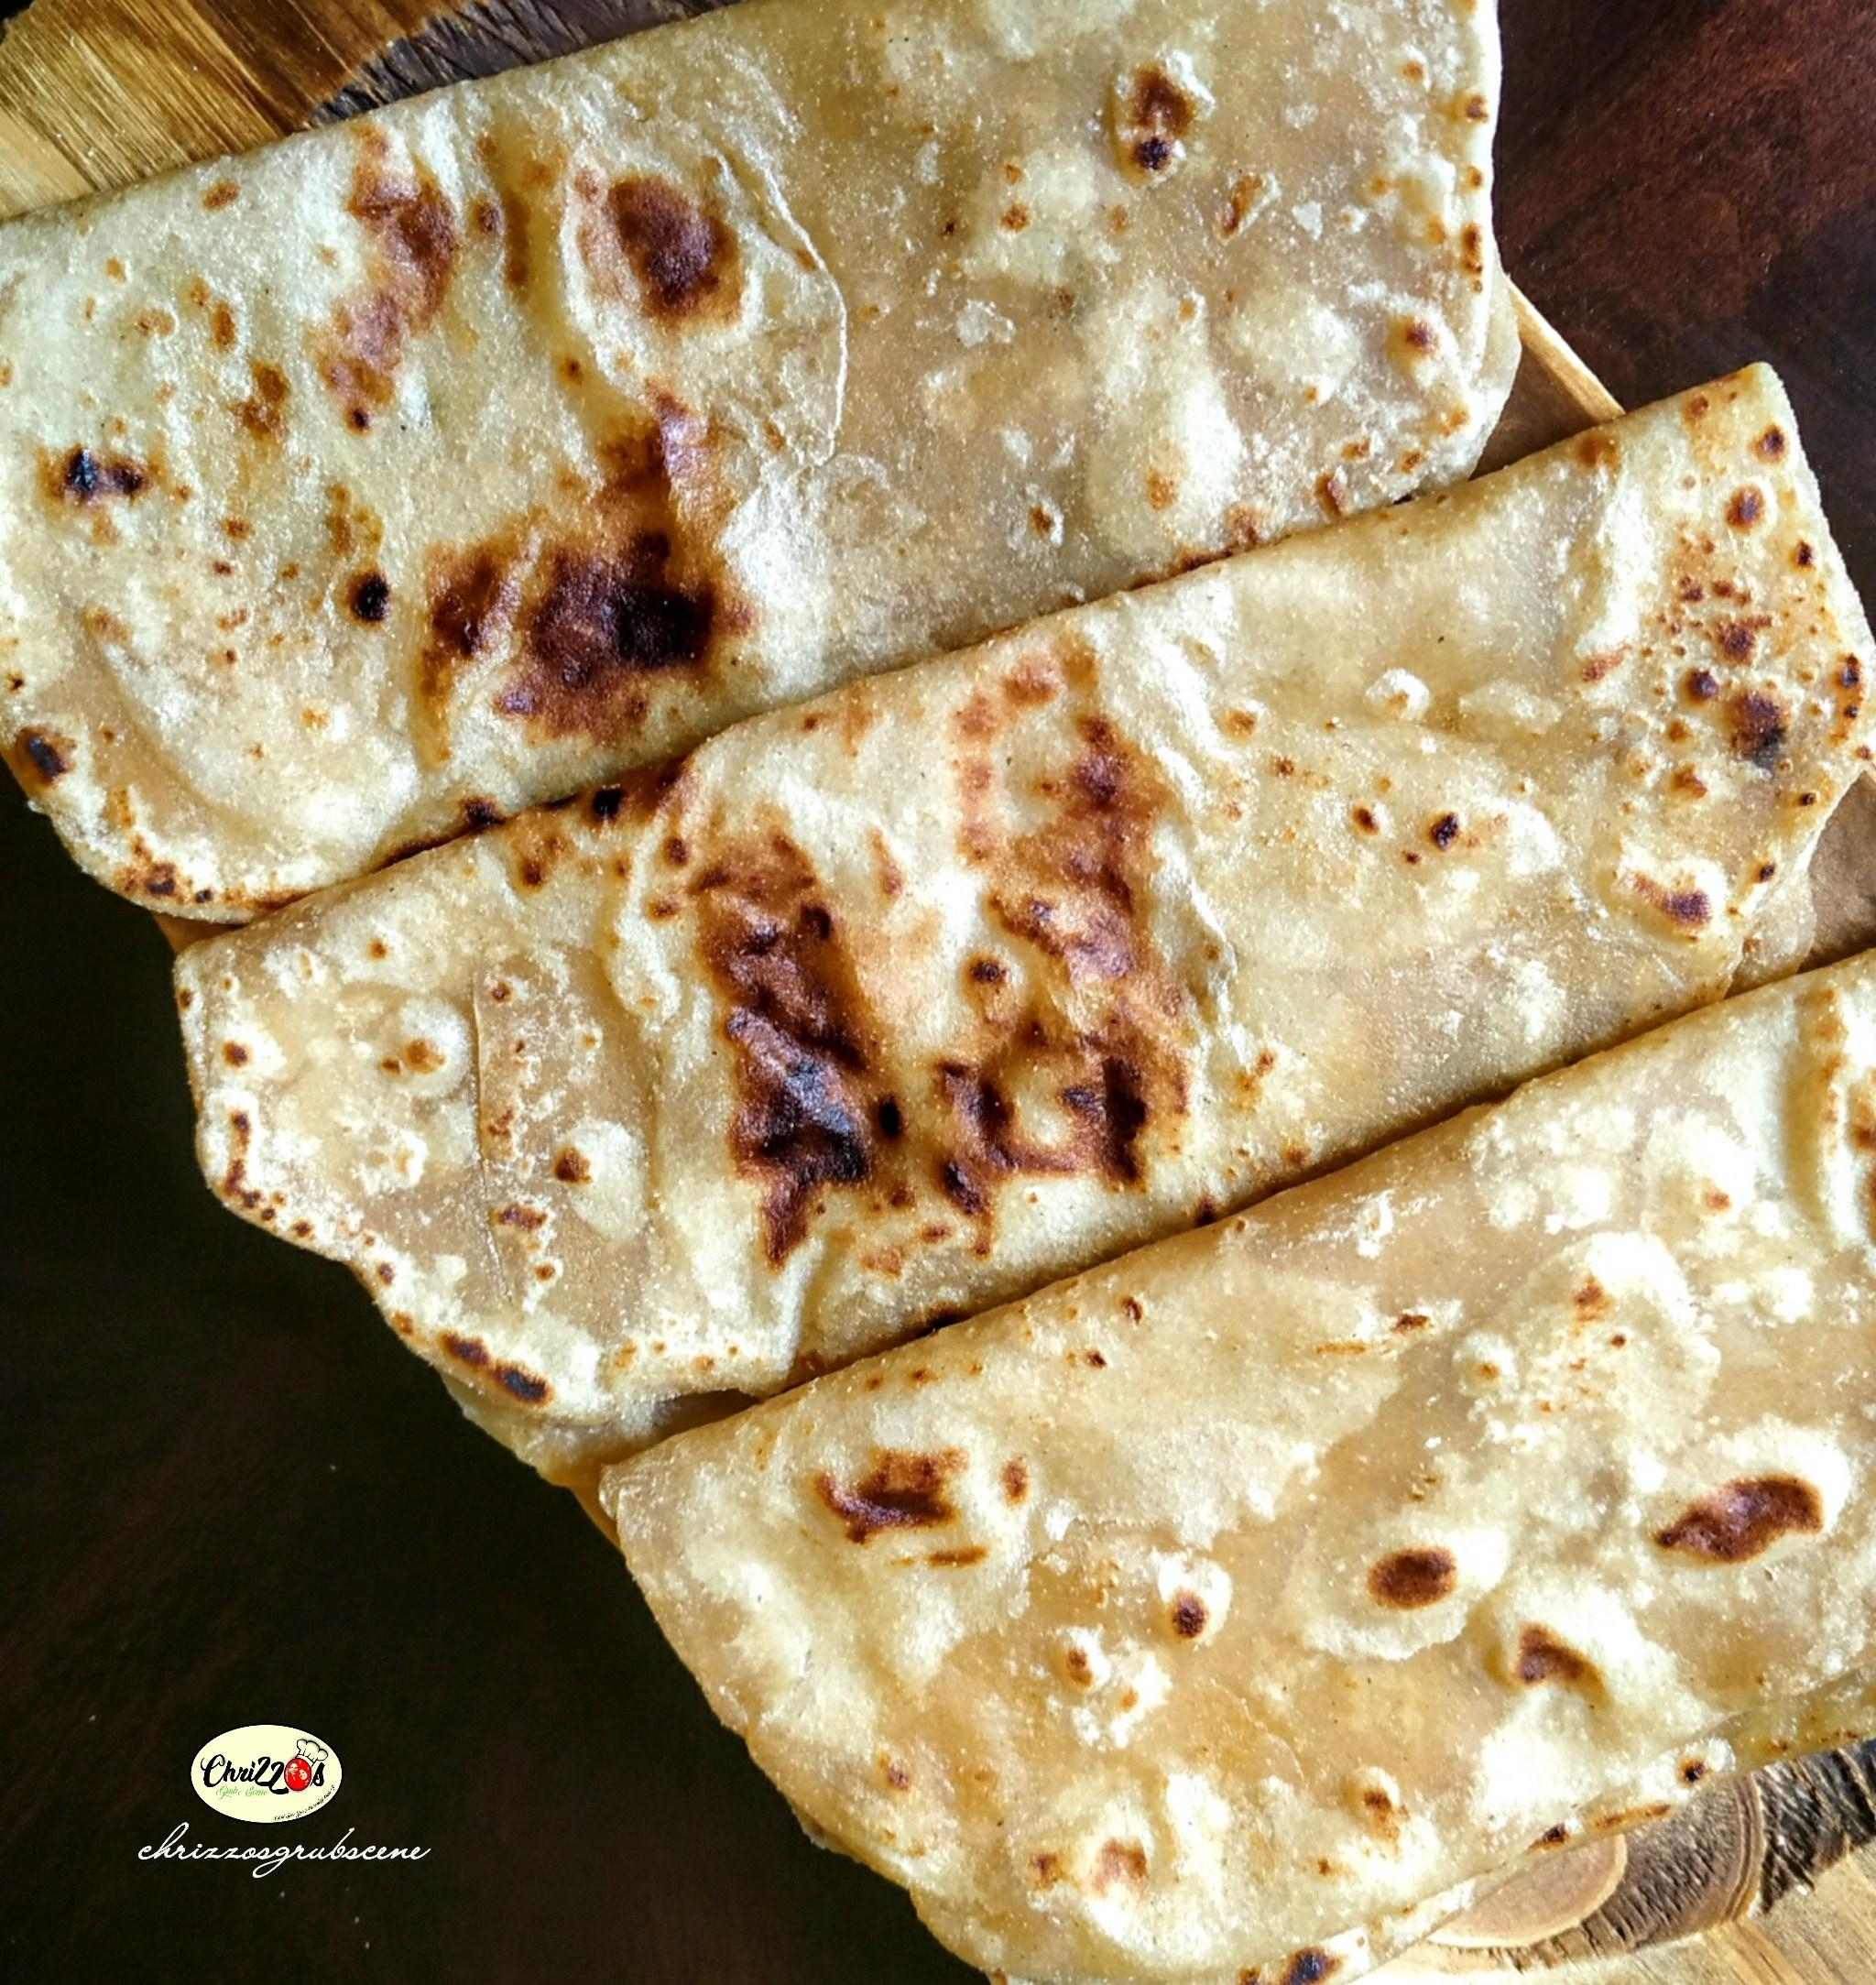chapati: (178, 365, 1872, 1477), (4, 0, 1516, 922), (605, 957, 1876, 1985), (608, 1283, 1872, 1985), (1610, 1692, 1652, 1715), (1636, 1141, 1652, 1151)
